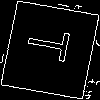T: (24, 25, 80, 64)
